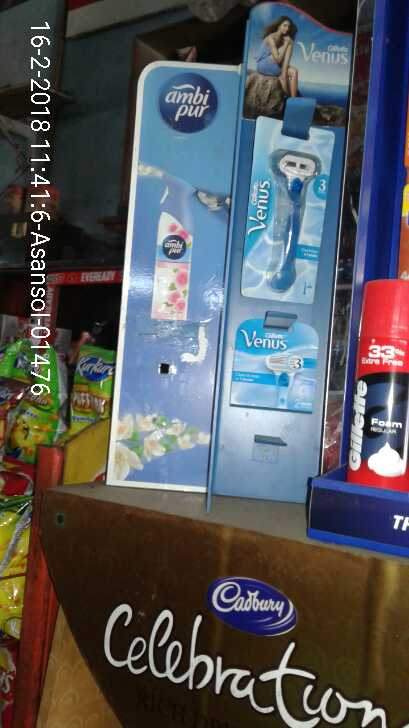beauty: (246, 113, 321, 307), (346, 278, 409, 493), (231, 315, 319, 413)
